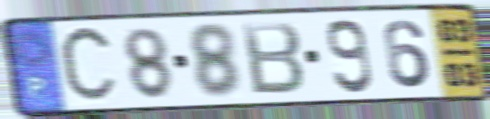6: (381, 17, 433, 90)
8: (187, 20, 245, 102), (118, 26, 176, 101)
9: (325, 18, 374, 95)
B: (239, 19, 308, 97)
C: (57, 21, 121, 109)
